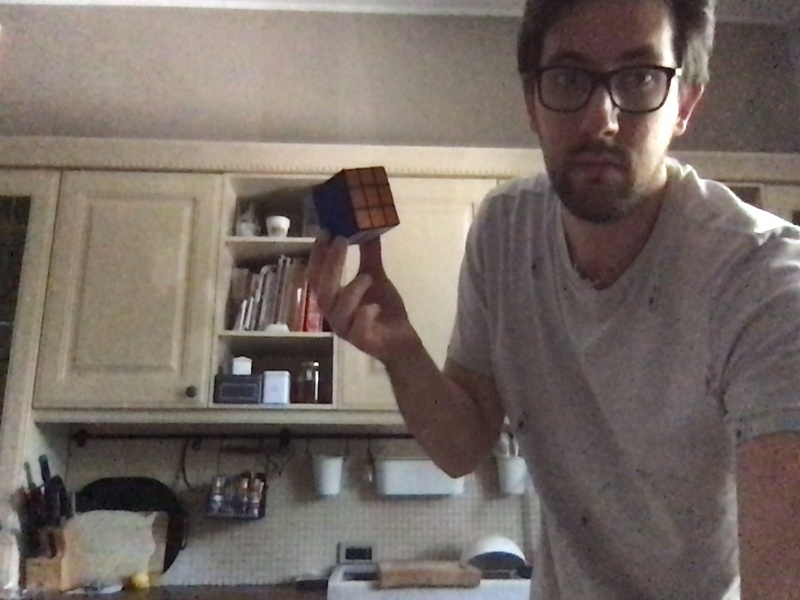rubik: (313, 166, 402, 245)
